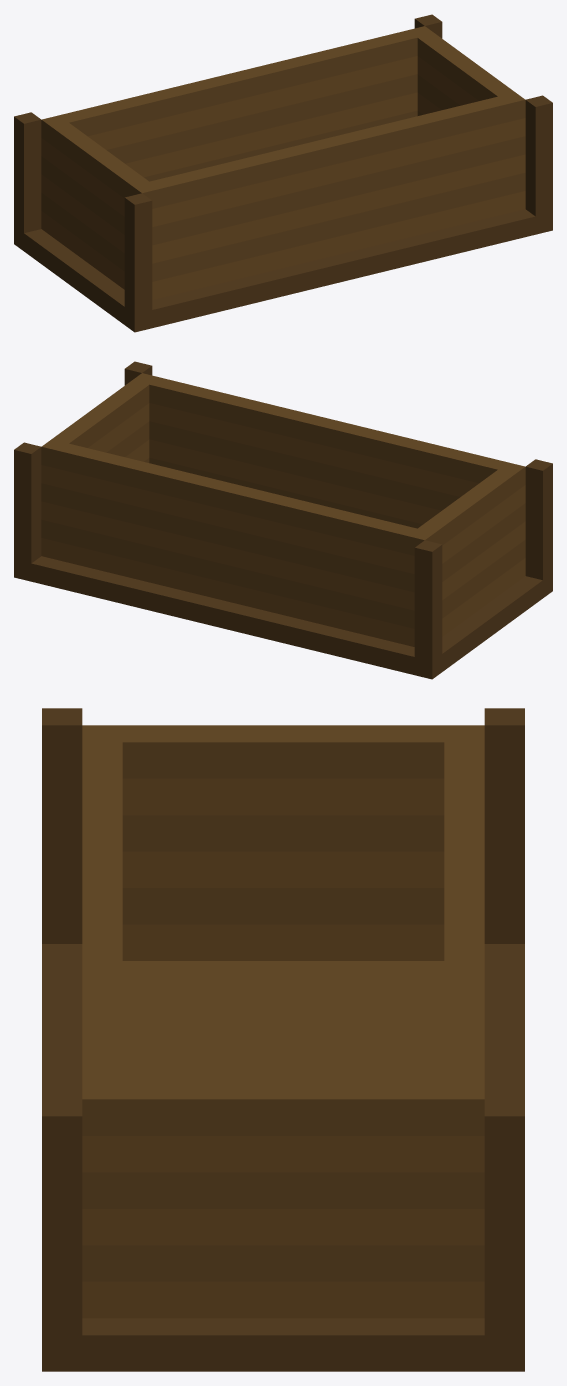
Rendered from Decor-17.obj.
3 views of the same model, one above another, from view 1: azimuth 30°, elevation 25°; view 2: azimuth 150°, elevation 25°; view 3: azimuth 270°, elevation 25° (orthographic). The views are drawn at different scales.
Size of the model in its own units: 2.4 by 0.7 by 1.2.
1 material, 1 textured.
